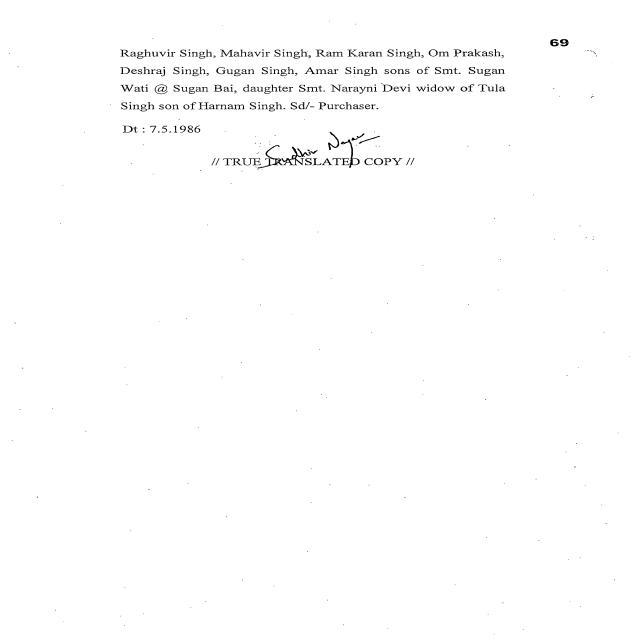page-number: (462, 0, 638, 49)
